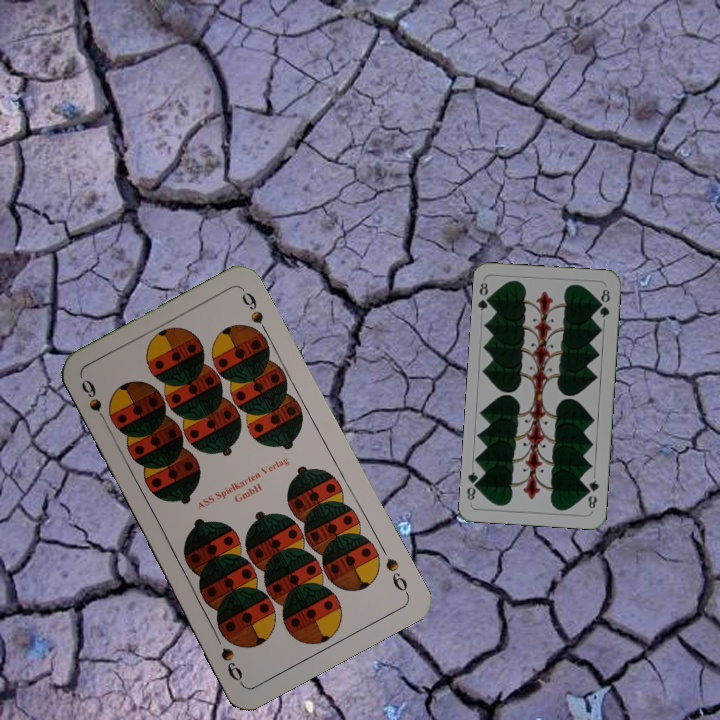G8: (474, 278, 495, 313), (583, 476, 602, 511)
S9: (77, 375, 112, 430), (381, 554, 411, 598)
